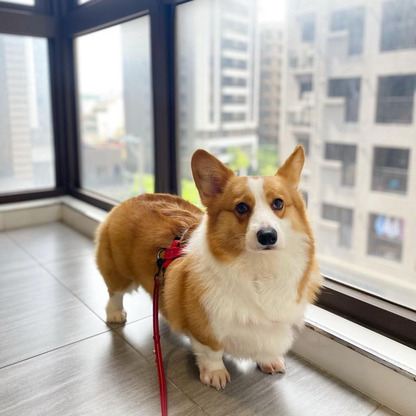Corgi: (58, 144, 343, 399)
